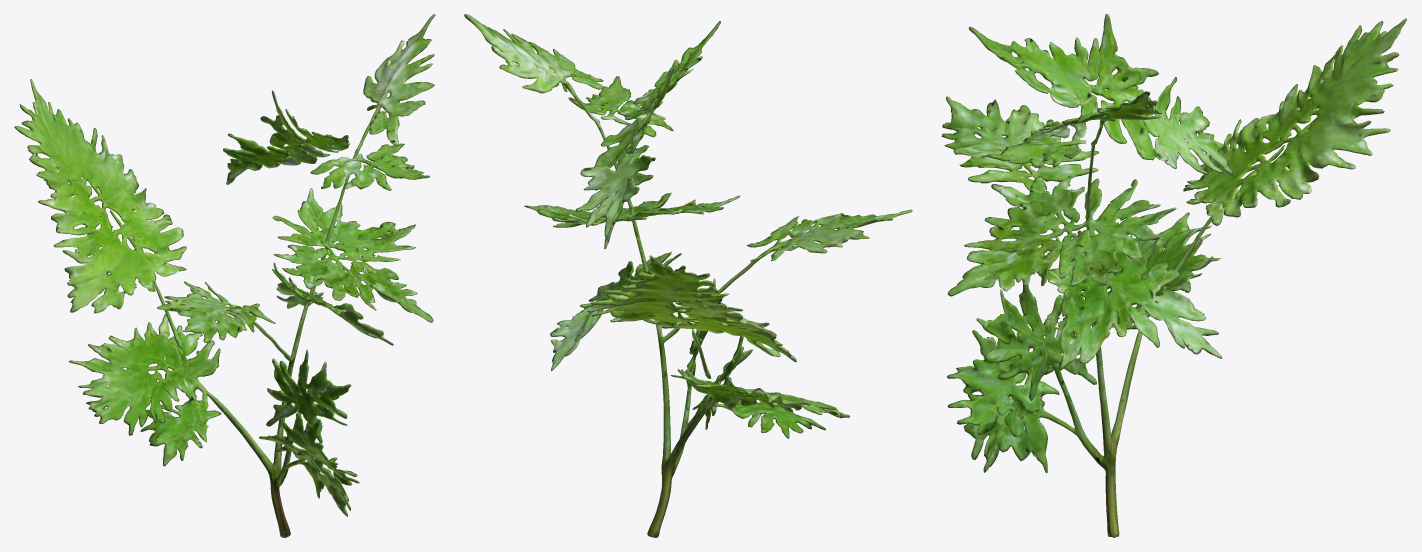
Rendered from neem.glb.
3 renders of one model, left to right at view 1: azimuth 30°, elevation 25°; view 2: azimuth 150°, elevation 25°; view 3: azimuth 270°, elevation 25°, orthographic. The views are drawn at different scales.
Size of the model in its own units: 1.58 by 2.01 by 1.58.
Materials: 1 (1 with a texture image).
